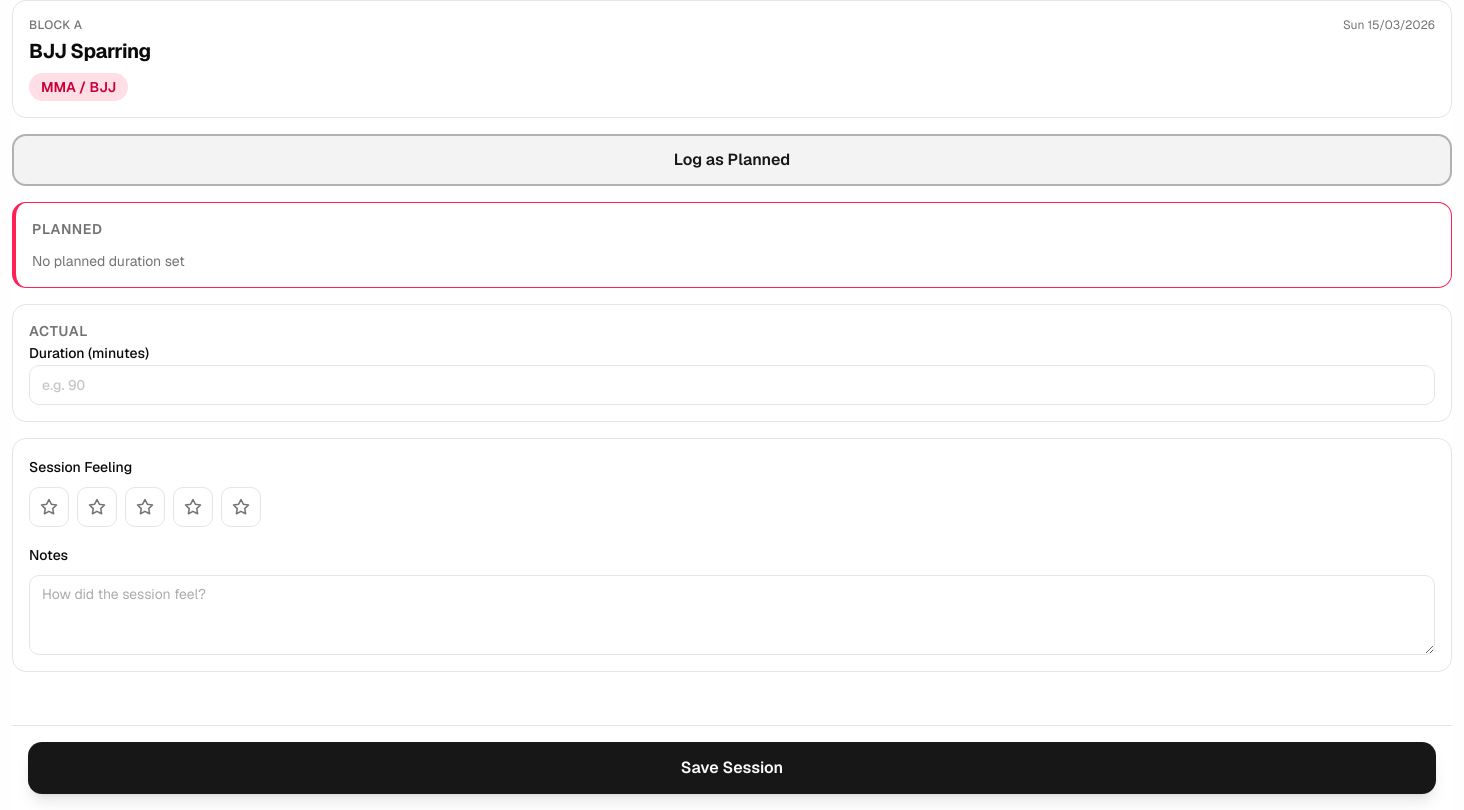
Test: MmaLoggingForm — T191 autofill characterization › shows success message after save
Click the button with test id "save-mma-btn" at [732, 768], box [28, 742, 1436, 794]
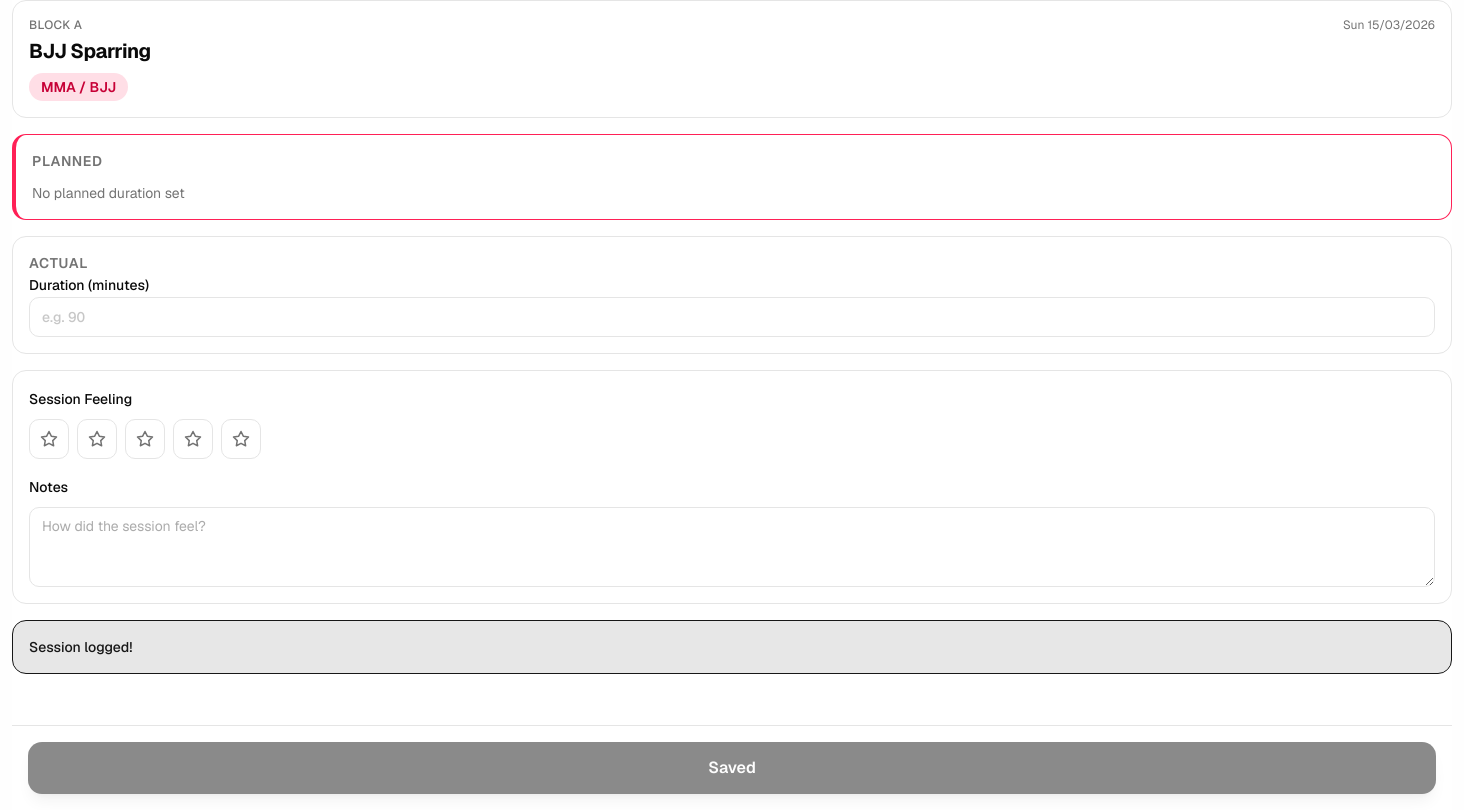
Now the element with test id "save-success" is shown, box [12, 620, 1452, 674]
Now the text "Session logged!" is shown, box [29, 638, 132, 656]
